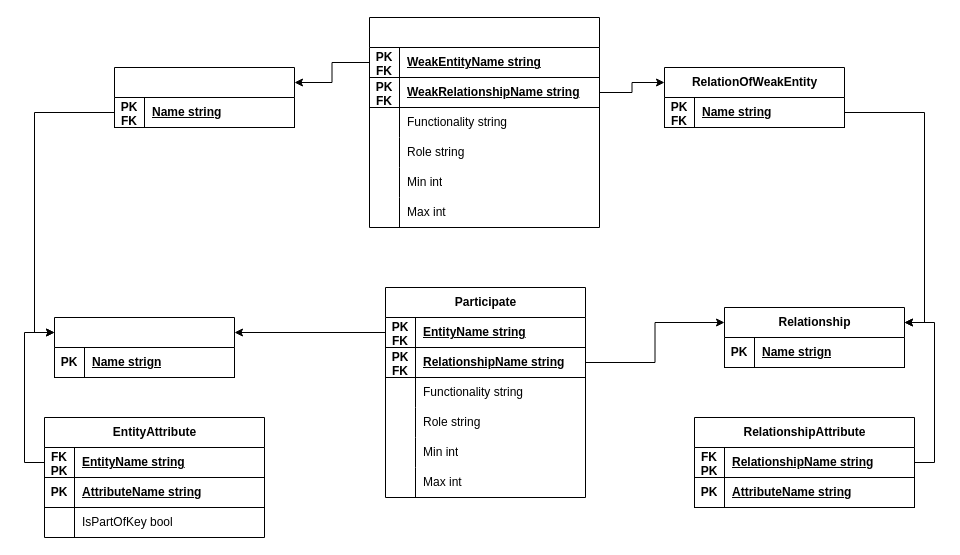
This 960x555 diagram has some shape labels left out. The shapes that lost their labels are listed below. From the top down, each one's box as (x1, y1, x2, y2) in pixels, then its label:
(114, 66, 294, 128): WeakEntity
(368, 16, 600, 228): WeakParticipate
(54, 316, 234, 378): Entity
